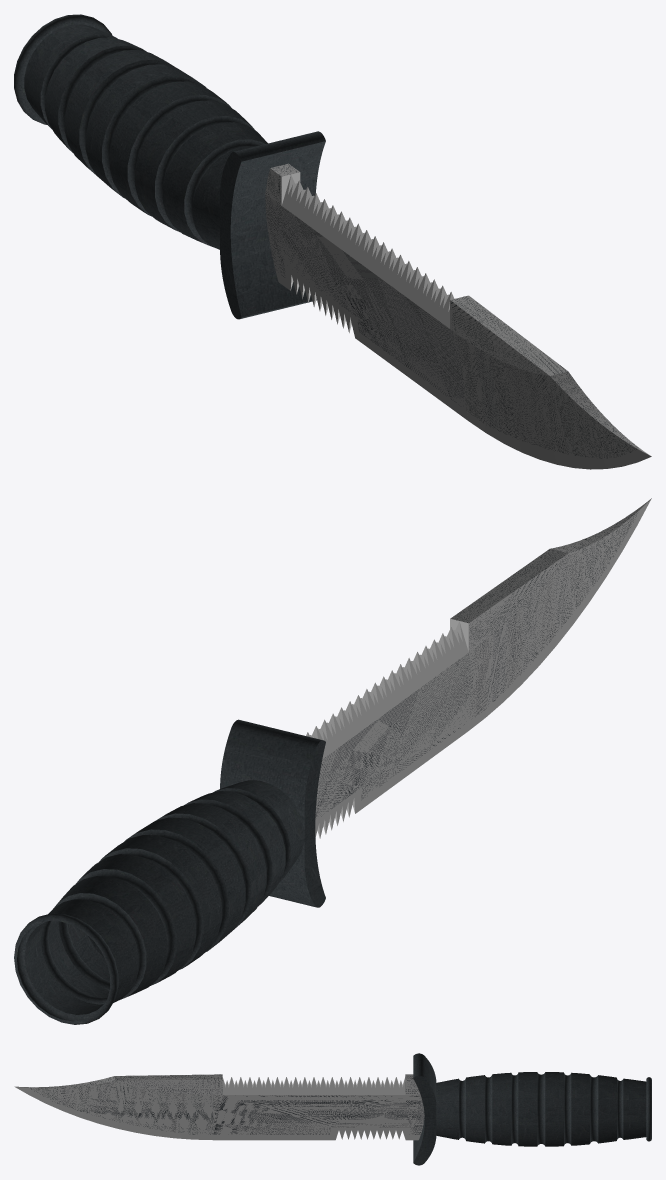
File: model_scale.obj
3 renders of one model, top to bottom at view 1: azimuth 30°, elevation 25°; view 2: azimuth 150°, elevation 25°; view 3: azimuth 270°, elevation 25°, orthographic. The views are drawn at different scales.
Parts seen in each view (by area): view 1: mesh1_mesh1-geometry, mesh2_mesh2-geometry; view 2: mesh1_mesh1-geometry, mesh2_mesh2-geometry; view 3: mesh2_mesh2-geometry, mesh1_mesh1-geometry.
Part boxes in pixels (<box>): mesh1_mesh1-geometry: <box>14,14,325,319</box>; mesh2_mesh2-geometry: <box>265,163,651,469</box>; mesh1_mesh1-geometry: <box>14,719,325,1024</box>; mesh2_mesh2-geometry: <box>306,498,651,838</box>; mesh2_mesh2-geometry: <box>14,1074,424,1140</box>; mesh1_mesh1-geometry: <box>413,1053,651,1165</box>.
Size of the model in its own units: 0.0251 by 0.0332 by 0.2138.
Materials: 3 (1 with a texture image).
